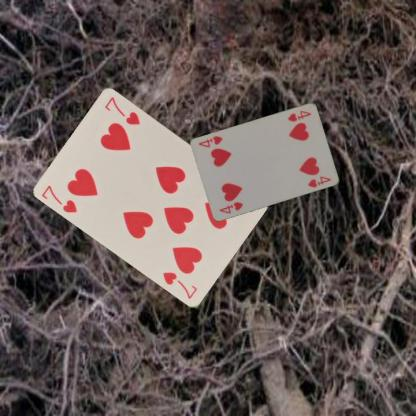4h: (217, 199, 244, 215), (286, 108, 312, 122)
7h: (39, 182, 79, 214)
